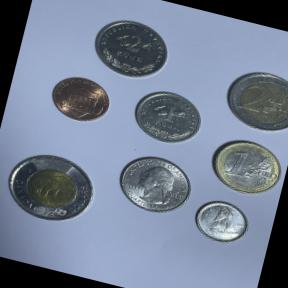1 Euro: (202, 130, 288, 203)
2 Euro: (215, 58, 288, 140)
Canda-10cent-: (187, 192, 255, 250)
Canda-2Dollar-: (0, 141, 104, 232)
Croatia-2Kune-: (83, 9, 178, 88)
US-1cent-: (43, 68, 117, 130)
US-25cent-: (108, 145, 199, 222)
